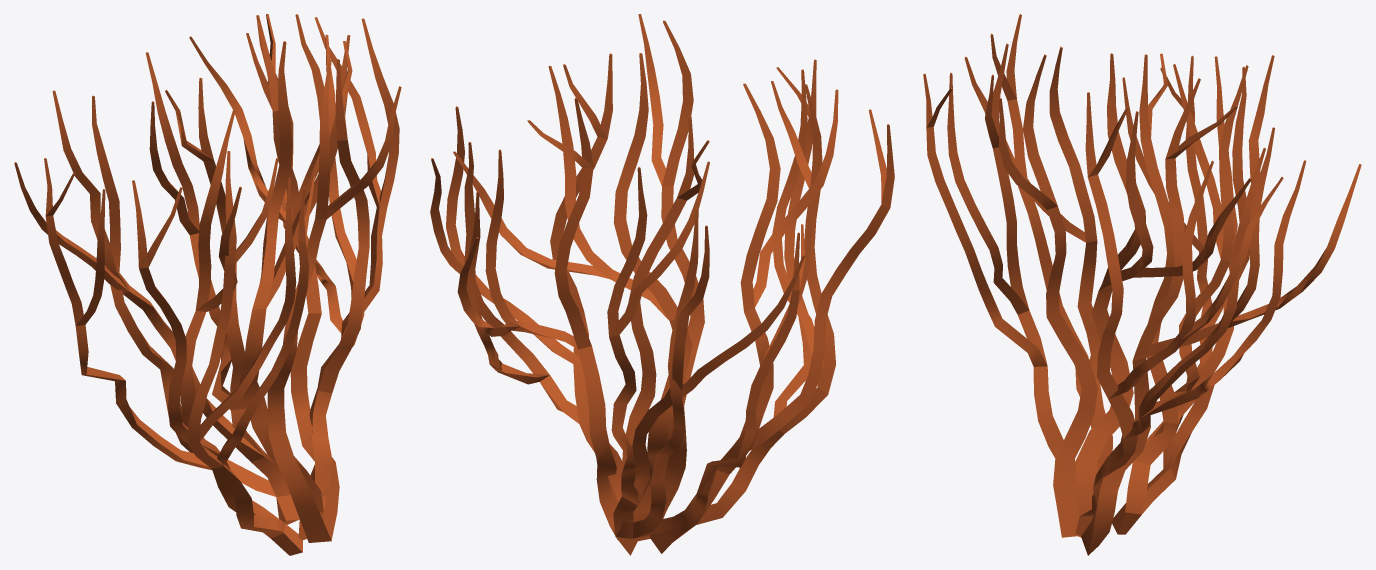
The model's file is coral_seagrass_D_raqam_dense.fbx.
The picture shows the model from 3 angles, left to right: view 1: azimuth 30°, elevation 25°; view 2: azimuth 150°, elevation 25°; view 3: azimuth 270°, elevation 25°; orthographic projection. The views are drawn at different scales.
Visible parts, largest first — view 1: coral_seagrass_D_raqam_dense; view 2: coral_seagrass_D_raqam_dense; view 3: coral_seagrass_D_raqam_dense.
Boxes of the visible parts, <box> form: coral_seagrass_D_raqam_dense: <box>14,14,401,555</box>; coral_seagrass_D_raqam_dense: <box>430,14,894,555</box>; coral_seagrass_D_raqam_dense: <box>923,14,1361,555</box>.
Bounding box in the file's own units: 97.38 × 128 × 103.
